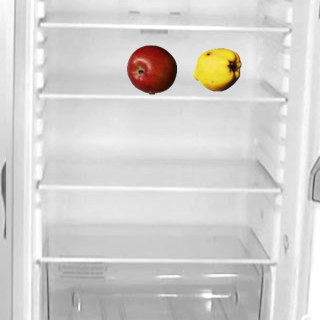Apple Braeburn: (126, 44, 176, 94)
Quince: (191, 44, 241, 94)
